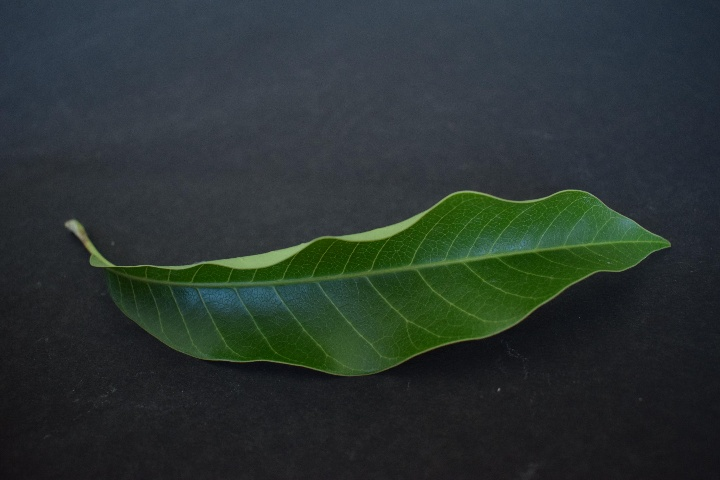healthy: (98, 178, 661, 372)
